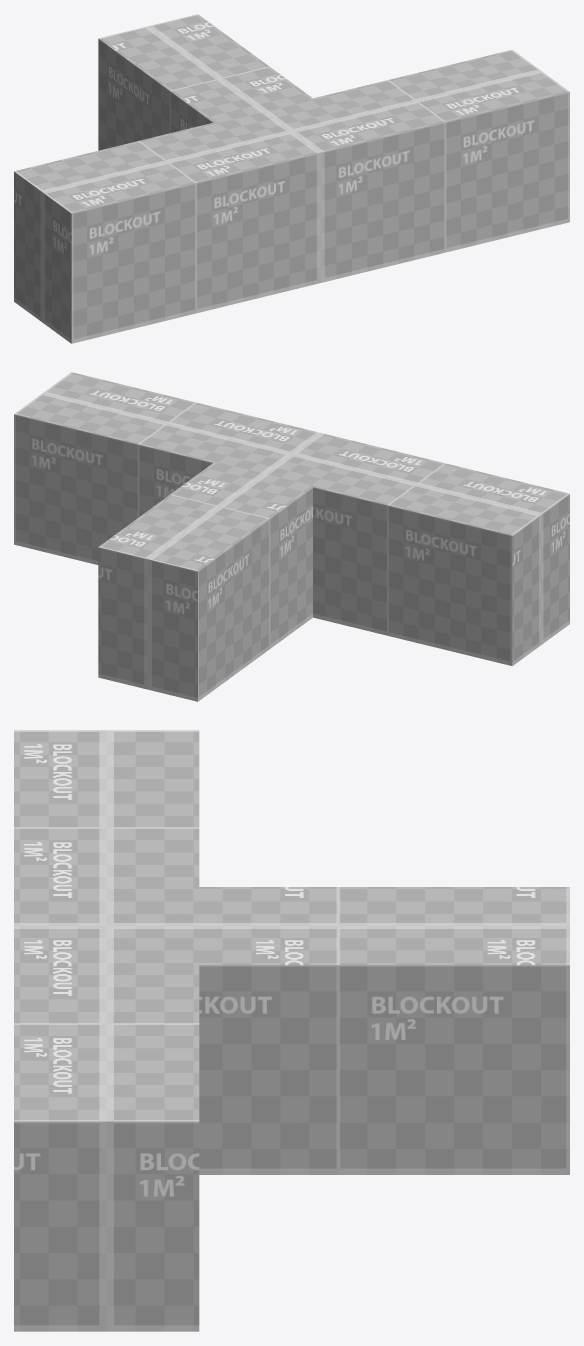
Rendered from BlockoutEdgeFullThickJunctionThreeWay.fbx.
3 renders of one model, top to bottom at view 1: azimuth 30°, elevation 25°; view 2: azimuth 150°, elevation 25°; view 3: azimuth 270°, elevation 25°, orthographic. The views are drawn at different scales.
Parts seen in each view (by area): view 1: BlockoutEdgeFullThickJunctionThreeWay; view 2: BlockoutEdgeFullThickJunctionThreeWay; view 3: BlockoutEdgeFullThickJunctionThreeWay.
Boxes of the visible parts, left/top/right/bottom form: BlockoutEdgeFullThickJunctionThreeWay: left=14, top=14, right=569, bottom=343; BlockoutEdgeFullThickJunctionThreeWay: left=14, top=372, right=569, bottom=701; BlockoutEdgeFullThickJunctionThreeWay: left=14, top=730, right=569, bottom=1331.
Size of the model in its own units: 400 by 100 by 240.
